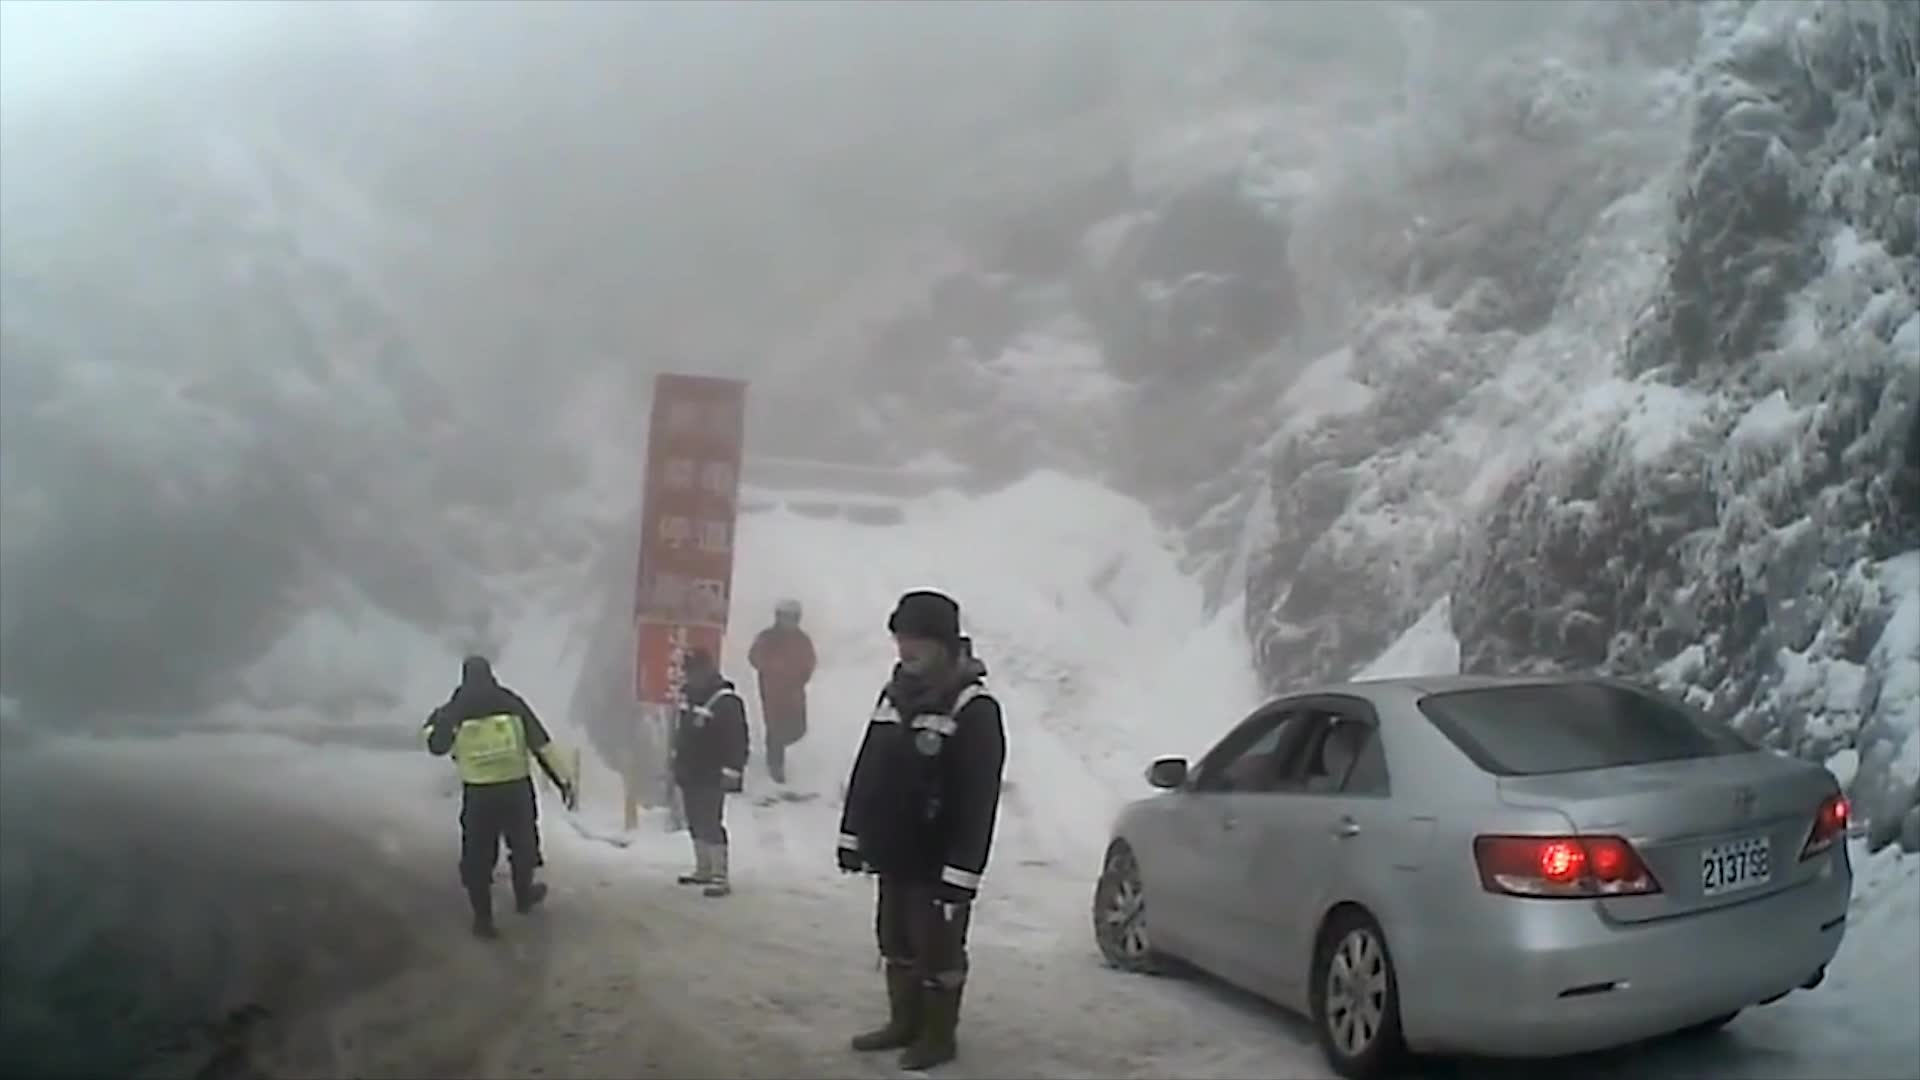pedestrian: (837, 590, 1009, 1076), (422, 657, 590, 941), (672, 649, 752, 900), (753, 597, 819, 782)
vehicle: (1088, 667, 1852, 1067)
